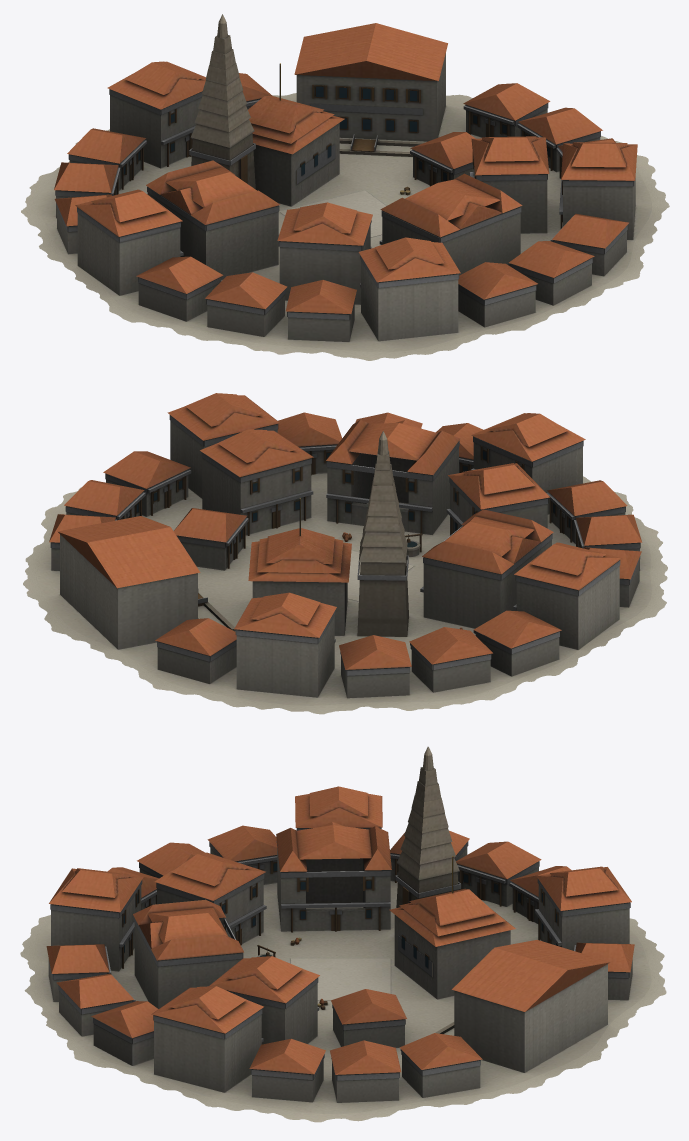
File: gunpowder-town-big-a-monsoon.glb
3 renders of one model, top to bottom at view 1: azimuth 30°, elevation 25°; view 2: azimuth 150°, elevation 25°; view 3: azimuth 270°, elevation 25°, orthographic.
Visible parts, largest first — view 1: LOD0; view 2: LOD0; view 3: LOD0.
Boxes of the visible parts, left/top/right/bottom form: LOD0: left=21, top=14, right=669, bottom=360; LOD0: left=23, top=393, right=667, bottom=714; LOD0: left=20, top=746, right=666, bottom=1122.
Size of what is drawn, in the model's own units: 8 by 2.6 by 7.96.
Materials: 3 (3 with a texture image).
